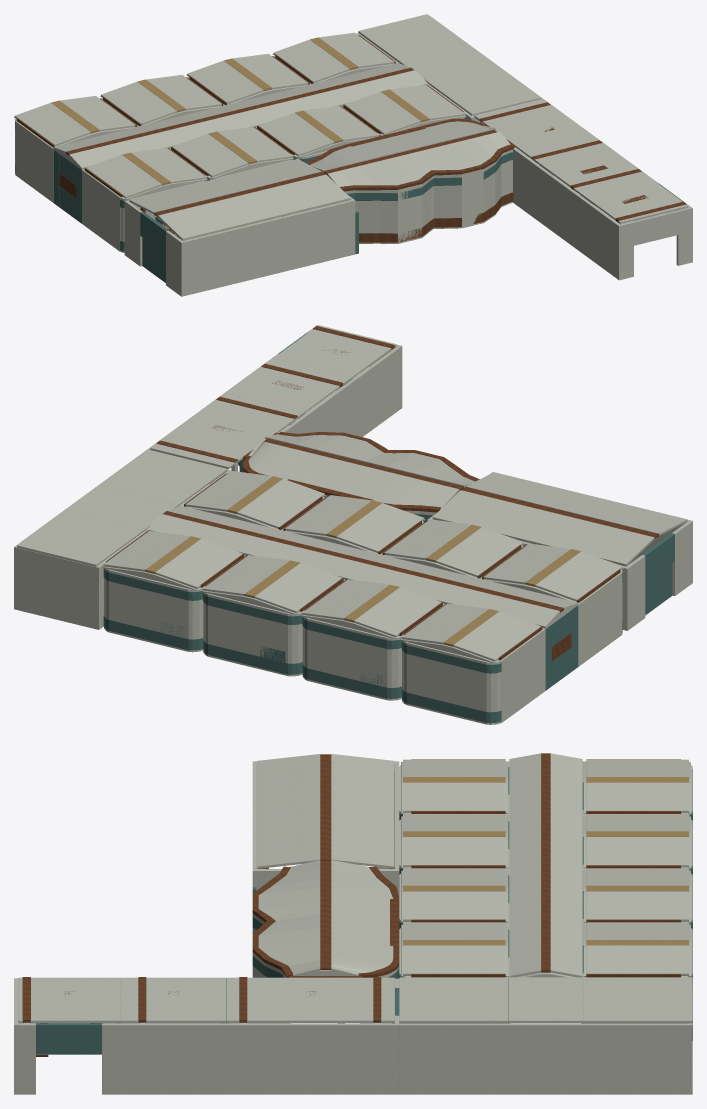
File: D05_medical_remaining_architecture.glb
3 renders of one model, top to bottom at view 1: azimuth 30°, elevation 25°; view 2: azimuth 150°, elevation 25°; view 3: azimuth 270°, elevation 25°, orthographic. The views are drawn at different scales.
Parts seen in each view (by area): view 1: SUPPORT_south_wall, WAIT_south_sculpted_enclosure, ADMISSION_inner_protected_partition, ADMISSION_ceiling_panel_2, TRIAGE_admission_ceiling_0, TRIAGE_admission_ceiling_2, ADMISSION_ceiling_panel_0, ADMISSION_ceiling_panel_1, SUPPORT_vault_facet_0, TRIAGE_04_left_wall, TRIAGE_08_right_wall, TRIAGE_admission_ceiling_1 (+46 smaller); view 2: ADMISSION_ceiling_panel_2, TRIAGE_admission_fore_cap, ADMISSION_inner_protected_partition, TRIAGE_03_shaped_care_back, TRIAGE_04_shaped_care_back, TRIAGE_01_shaped_care_back, TRIAGE_02_shaped_care_back, TRIAGE_admission_ceiling_2, TRIAGE_admission_ceiling_0, WAIT_fitted_vault_north_3, ADMISSION_ceiling_panel_1, ADMISSION_ceiling_panel_0 (+51 smaller); view 3: ADMISSION_outer_aft, TRIAGE_admission_outer, ADMISSION_ceiling_panel_2, TRIAGE_admission_ceiling_0, TRIAGE_admission_ceiling_2, ADMISSION_ceiling_panel_1, ADMISSION_ceiling_panel_0, WAIT_fitted_vault_north_3, TRIAGE_admission_ceiling_1, TRIAGE_05_vault_0, TRIAGE_06_vault_0, TRIAGE_08_vault_0 (+54 smaller).
Part boxes in pixels (box(x1,y1,x2,y2)): SUPPORT_south_wall: box(180, 199, 353, 296); WAIT_south_sculpted_enclosure: box(344, 149, 512, 243); ADMISSION_inner_protected_partition: box(513, 147, 621, 279); ADMISSION_ceiling_panel_2: box(474, 99, 606, 164); TRIAGE_admission_ceiling_0: box(430, 66, 540, 115); TRIAGE_admission_ceiling_2: box(358, 14, 469, 63); ADMISSION_ceiling_panel_0: box(581, 177, 688, 223); ADMISSION_ceiling_panel_1: box(539, 146, 648, 194); SUPPORT_vault_facet_0: box(173, 189, 350, 240); TRIAGE_04_left_wall: box(15, 121, 53, 202); TRIAGE_08_right_wall: box(82, 169, 120, 251); TRIAGE_admission_ceiling_1: box(400, 45, 498, 84); ADMISSION_ceiling_panel_2: box(150, 393, 303, 469); TRIAGE_admission_fore_cap: box(14, 546, 100, 629); ADMISSION_inner_protected_partition: box(279, 345, 401, 436); TRIAGE_03_shaped_care_back: box(302, 616, 401, 700); TRIAGE_04_shaped_care_back: box(402, 641, 501, 724); TRIAGE_01_shaped_care_back: box(104, 568, 203, 652); TRIAGE_02_shaped_care_back: box(203, 592, 302, 676); TRIAGE_admission_ceiling_2: box(17, 509, 144, 566); TRIAGE_admission_ceiling_0: box(99, 449, 227, 506); WAIT_fitted_vault_north_3: box(263, 448, 401, 500); ADMISSION_ceiling_panel_1: box(226, 358, 351, 413); ADMISSION_ceiling_panel_0: box(273, 325, 396, 379); ADMISSION_outer_aft: box(102, 1023, 399, 1094); TRIAGE_admission_outer: box(399, 1023, 692, 1094); ADMISSION_ceiling_panel_2: box(226, 977, 394, 1022); TRIAGE_admission_ceiling_0: box(399, 977, 508, 1023); TRIAGE_admission_ceiling_2: box(583, 977, 692, 1023); ADMISSION_ceiling_panel_1: box(120, 977, 226, 1022); ADMISSION_ceiling_panel_0: box(18, 977, 120, 1022); WAIT_fitted_vault_north_3: box(331, 891, 393, 959); TRIAGE_admission_ceiling_1: box(508, 977, 583, 1023); TRIAGE_05_vault_0: box(403, 945, 505, 975); TRIAGE_06_vault_0: box(403, 891, 505, 921); TRIAGE_08_vault_0: box(403, 782, 505, 812).
Bounding box in the file's own units: 34 × 4.8 × 37.01.
10 materials, 8 textured.
